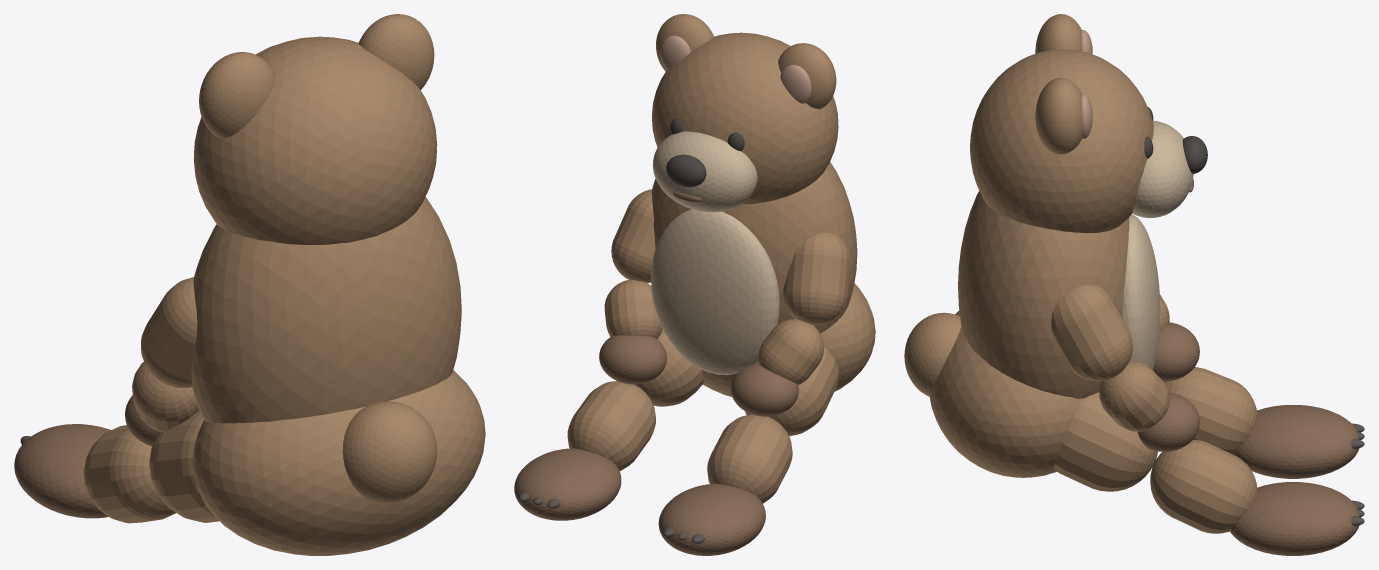
Rendered from sitting_bear_no_couch.glb.
The picture shows the model from 3 angles, left to right: view 1: azimuth 30°, elevation 25°; view 2: azimuth 150°, elevation 25°; view 3: azimuth 270°, elevation 25°; orthographic projection. The views are drawn at different scales.
Visible parts, largest first — view 1: torso, head, hips, tail, left_foot, left_shin, left_ear, left_upper_arm, left_thigh, right_ear, left_forearm, left_paw; view 2: head, belly, torso, left_foot, right_foot, right_shin, muzzle, left_shin, left_upper_arm, hips, left_forearm, right_upper_arm (+10 smaller); view 3: head, torso, hips, right_shin, right_foot, left_foot, right_thigh, right_upper_arm, left_shin, belly, muzzle, right_forearm (+6 smaller).
Part boxes in pixels (x1,y1,x2,y2): torso: [191, 197, 461, 423]; head: [193, 36, 437, 244]; hips: [192, 370, 485, 555]; tail: [342, 401, 437, 503]; left_foot: [14, 424, 110, 518]; left_shin: [83, 425, 175, 523]; left_ear: [199, 52, 274, 138]; left_upper_arm: [141, 277, 197, 388]; left_thigh: [149, 410, 219, 522]; right_ear: [358, 14, 434, 89]; left_forearm: [132, 362, 199, 431]; left_paw: [125, 395, 158, 446]; head: [652, 32, 838, 204]; belly: [651, 209, 779, 375]; torso: [651, 162, 857, 333]; left_foot: [658, 483, 765, 555]; right_foot: [514, 448, 621, 520]; right_shin: [567, 381, 655, 470]; muzzle: [652, 131, 757, 212]; left_shin: [707, 414, 792, 503]; left_upper_arm: [783, 232, 850, 325]; hips: [702, 283, 875, 397]; left_forearm: [758, 319, 823, 384]; right_upper_arm: [611, 189, 655, 282]; head: [970, 49, 1153, 232]; torso: [958, 191, 1129, 398]; hips: [929, 310, 1084, 477]; right_shin: [1150, 439, 1257, 533]; right_foot: [1230, 482, 1359, 555]; left_foot: [1233, 405, 1359, 478]; right_thigh: [1053, 392, 1157, 491]; right_upper_arm: [1051, 285, 1132, 381]; left_shin: [1164, 367, 1257, 454]; belly: [1121, 214, 1160, 370]; muzzle: [1132, 120, 1193, 218]; right_forearm: [1099, 361, 1169, 431].
Size of the model in its own units: 1.48 by 2.56 by 2.32.
